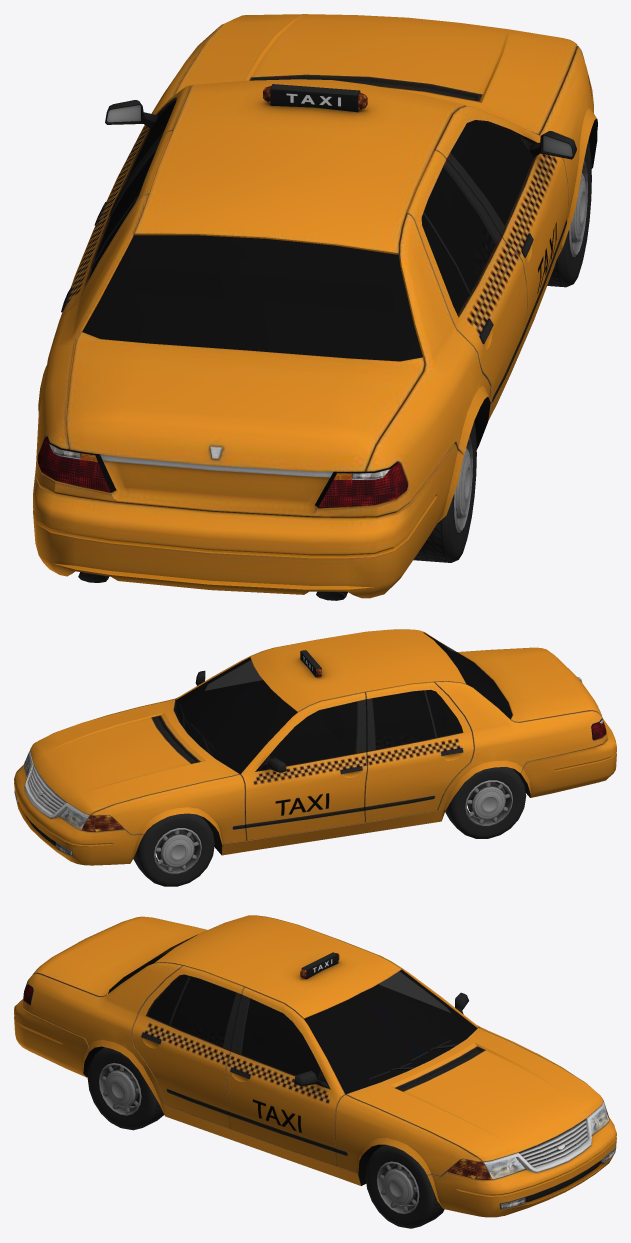
Rendered from cs_taxi.glb.
The picture shows the model from 3 angles, top to bottom: view 1: azimuth 30°, elevation 25°; view 2: azimuth 150°, elevation 25°; view 3: azimuth 270°, elevation 25°; orthographic projection. The views are drawn at different scales.
Parts seen in each view (by area): view 1: taxi; view 2: taxi; view 3: taxi.
Part boxes in pixels (<box>): taxi: <box>33,14,597,600</box>; taxi: <box>14,629,616,886</box>; taxi: <box>14,915,616,1228</box>.
Bounding box in the file's own units: 4.2 × 1.5 × 4.62.
Materials: 4 (4 with a texture image).
